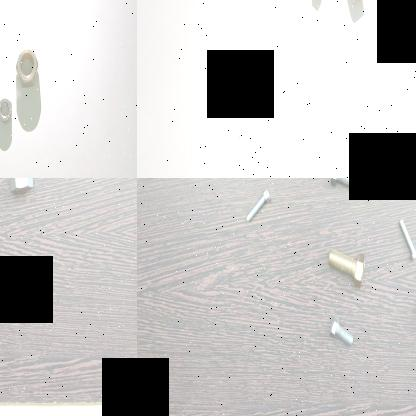Bolts: (319, 238, 366, 294), (244, 180, 271, 226), (324, 310, 352, 348), (394, 214, 416, 262), (5, 178, 35, 198), (323, 178, 356, 195)
NUTS: (12, 44, 39, 90), (0, 93, 12, 125), (303, 0, 325, 10)
